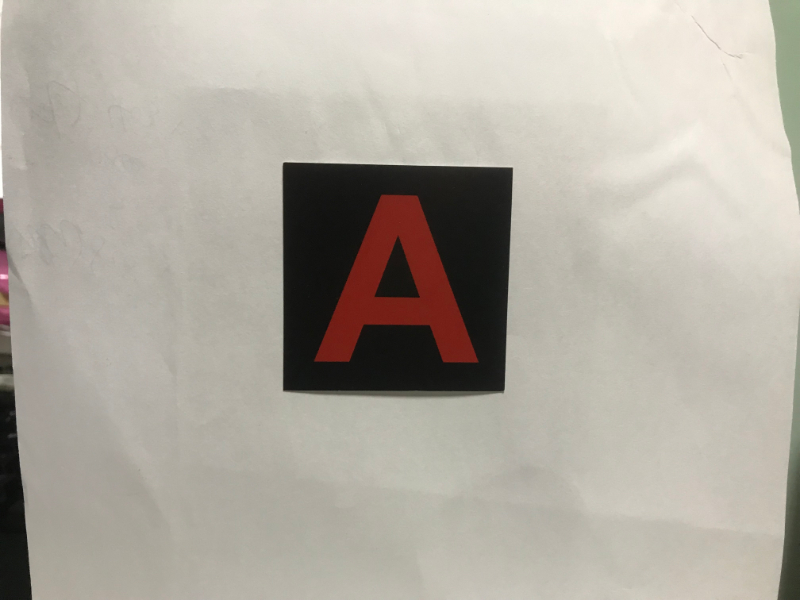A-11: (287, 171, 501, 389)
